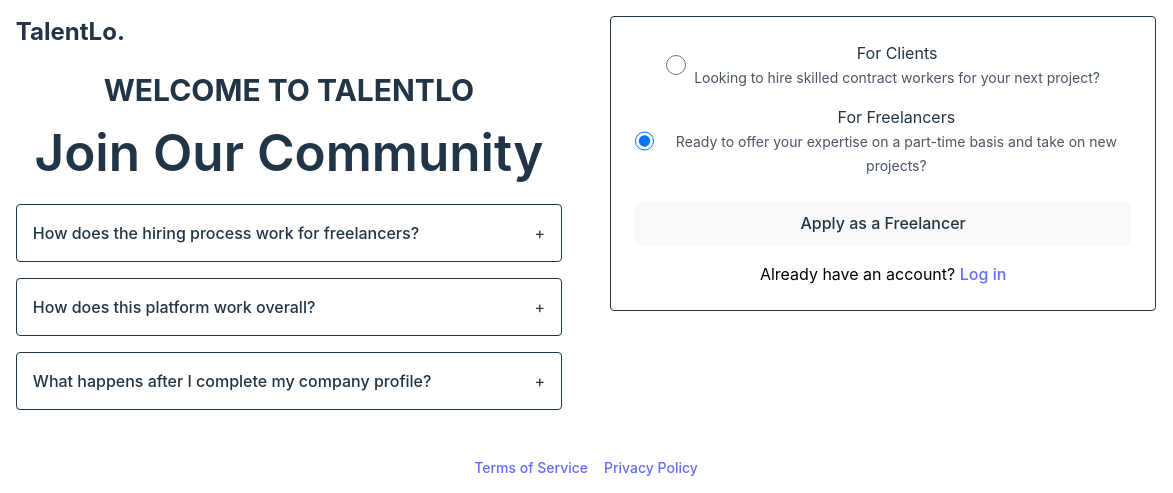
Launching Component › changes the selected role when radio buttons are clicked
Expected: the radio button labelled "For Freelancers" is checked, [635,131,654,151]
Note: Select "client"
Click the radio button labelled "For Clients" at [676, 65], box [666,55,686,75]
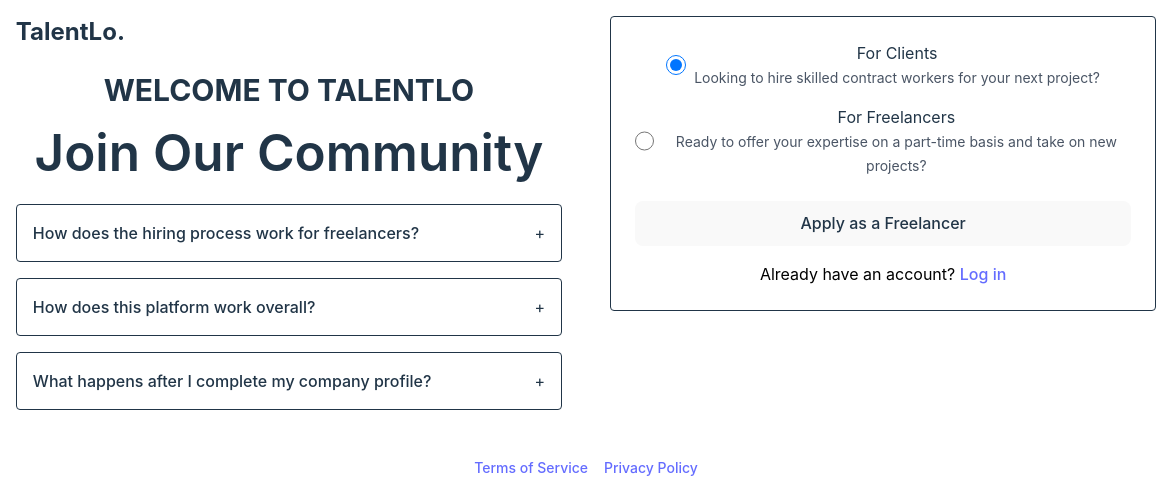
Expected: the radio button labelled "For Clients" is checked, [666,55,686,75]
Expected: the radio button labelled "For Freelancers" is not checked, [635,131,654,151]
